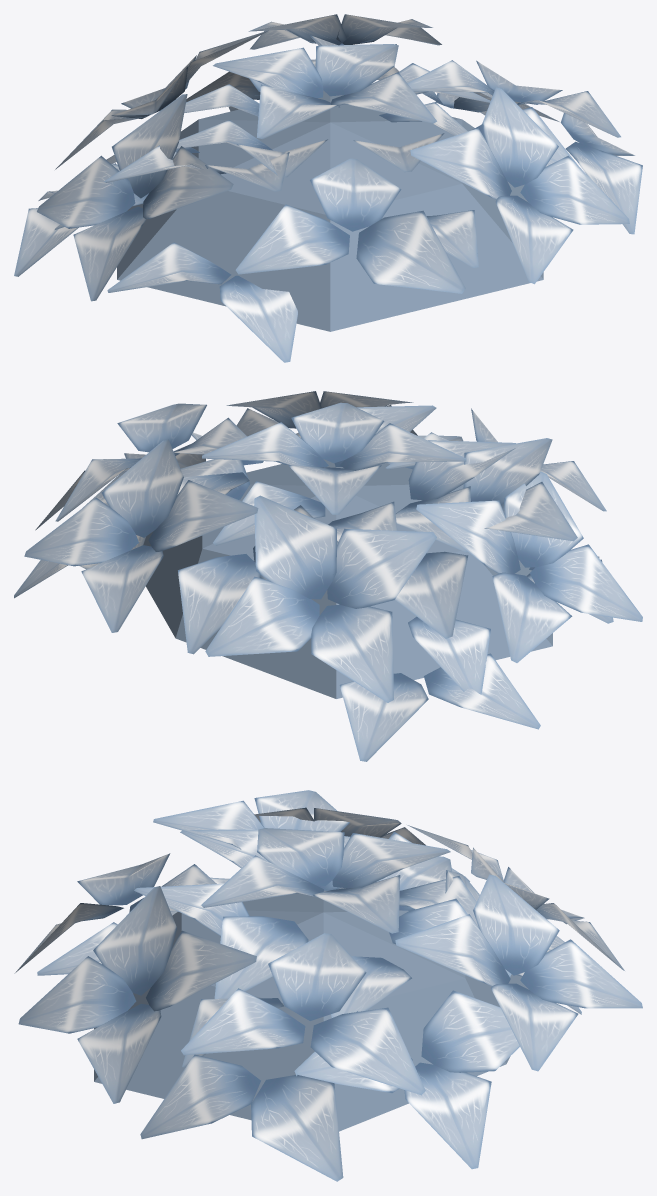
The model's file is leafybushwithtexture.fbx.
The picture shows the model from 3 angles, top to bottom: view 1: azimuth 30°, elevation 25°; view 2: azimuth 150°, elevation 25°; view 3: azimuth 270°, elevation 25°; orthographic projection. The views are drawn at different scales.
Visible parts, largest first — view 1: group1_pPlane1; view 2: group1_pPlane1; view 3: group1_pPlane1.
Boxes of the visible parts, <box> form: group1_pPlane1: <box>14,14,642,362</box>; group1_pPlane1: <box>14,391,642,761</box>; group1_pPlane1: <box>14,790,642,1181</box>.
Size of the model in its own units: 14.7 by 4.54 by 13.29.
2 materials, 1 textured.
